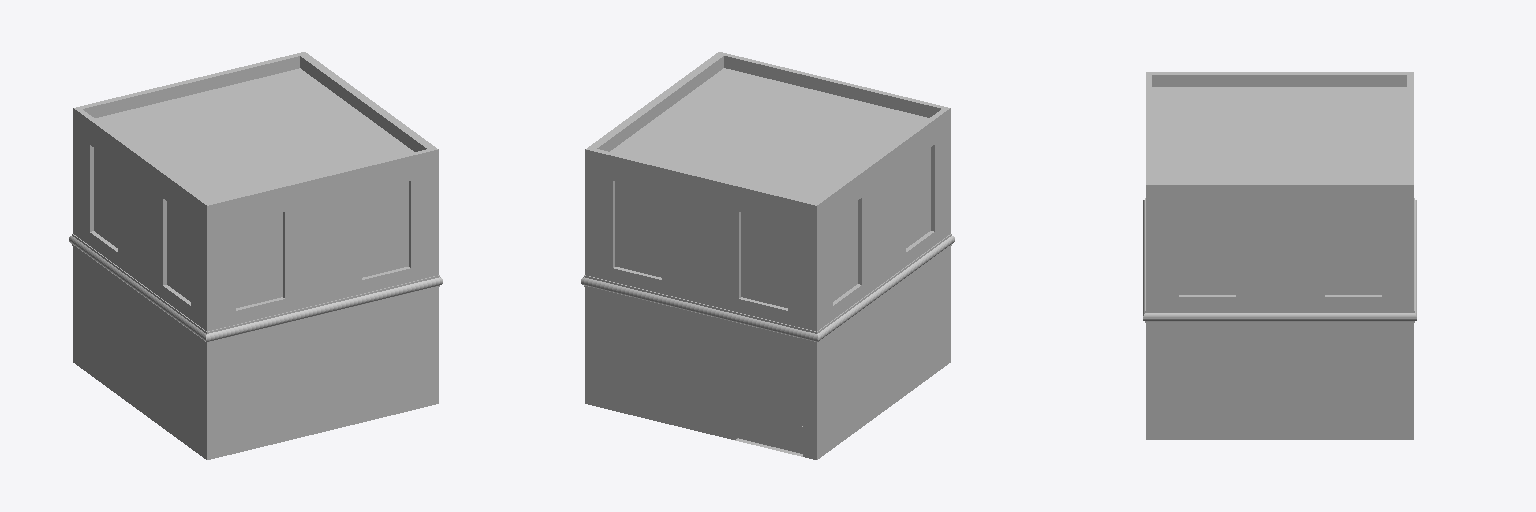
Rendered from house.obj.
3 views of the same model, side by side, from view 1: azimuth 30°, elevation 25°; view 2: azimuth 150°, elevation 25°; view 3: azimuth 270°, elevation 25° (orthographic).
Visible parts, largest first — view 1: Mesh1 Group1 Model; view 2: Mesh1 Group1 Model; view 3: Mesh1 Group1 Model.
Part boxes in pixels (bbox=[...]): Mesh1 Group1 Model: bbox=[69, 52, 442, 459]; Mesh1 Group1 Model: bbox=[581, 52, 954, 459]; Mesh1 Group1 Model: bbox=[1143, 72, 1416, 439].
Size of the model in its own units: 313 by 320 by 313.